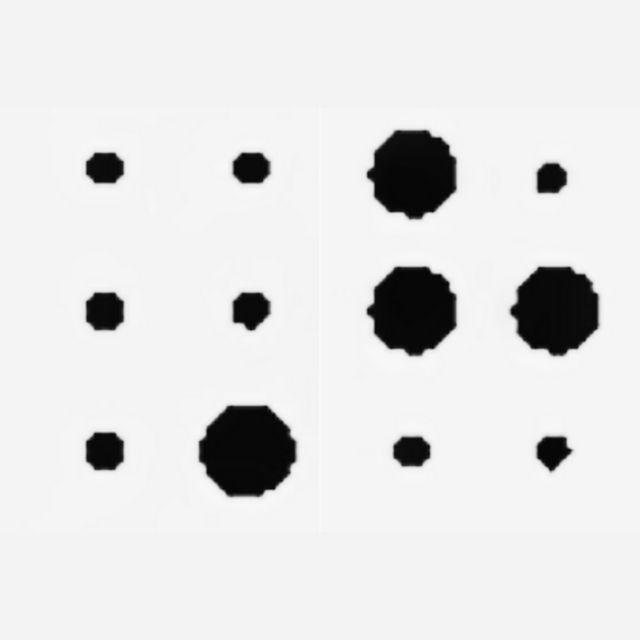H: (365, 129, 601, 495)
capital: (41, 130, 298, 496)
